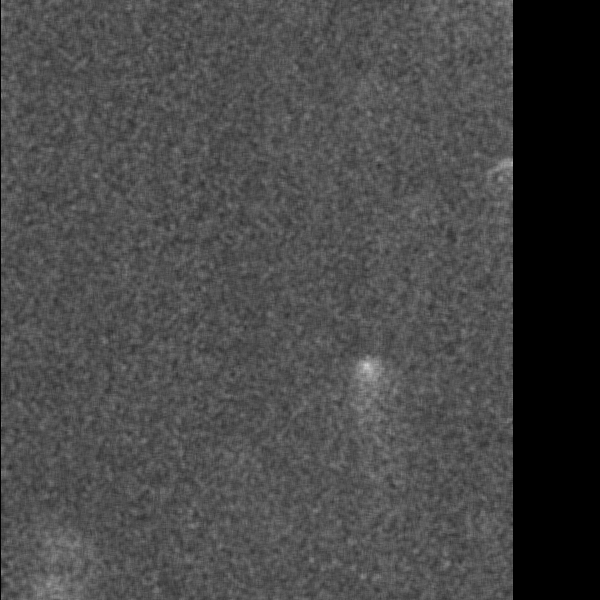spark: (431, 382, 508, 410)
